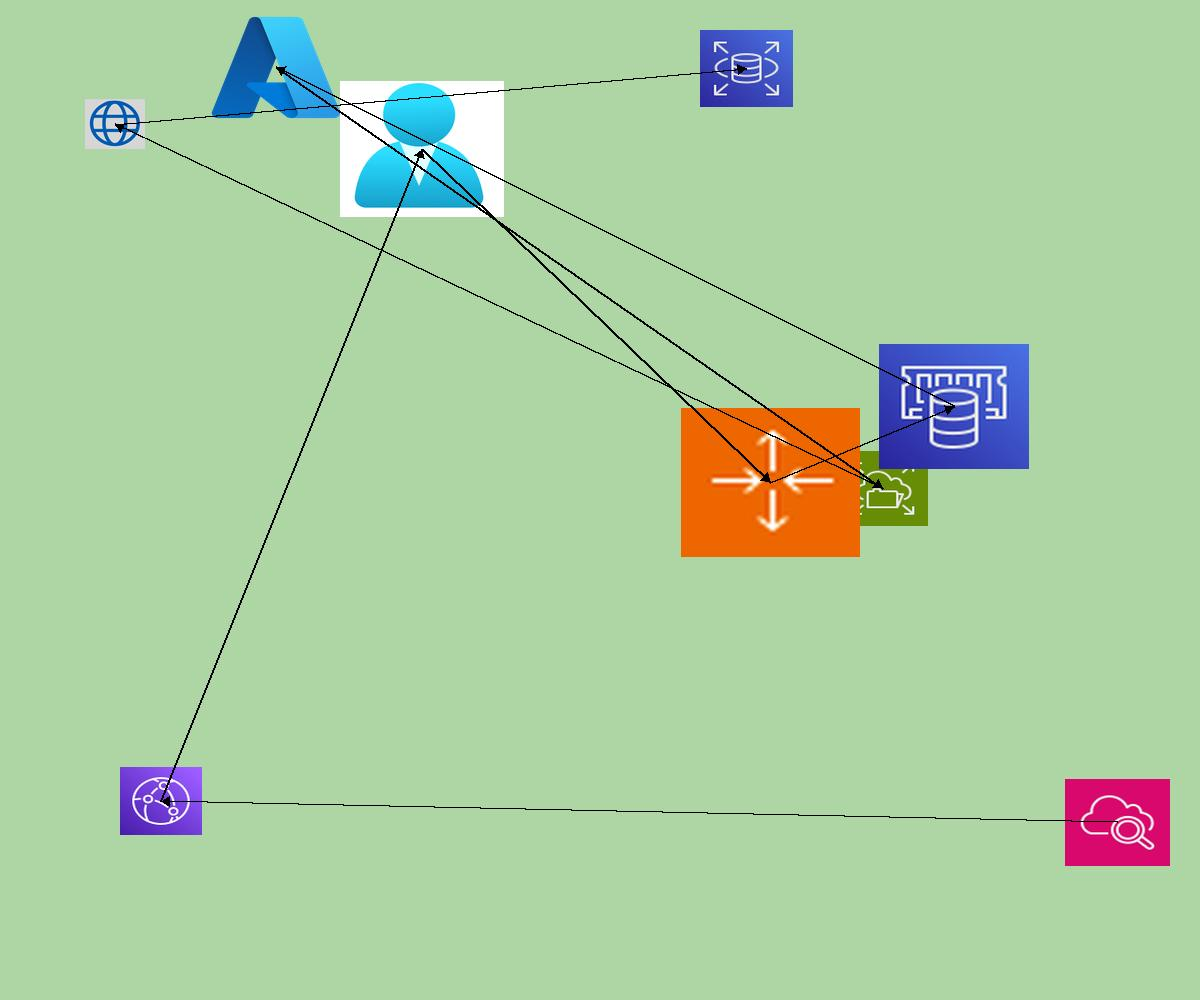AWS-CloudFront: (120, 767, 202, 835)
AWS-CloudWatch: (1065, 779, 1170, 866)
AWS-EFS: (837, 451, 928, 526)
AWS-ElastiCache: (879, 344, 1029, 469)
AWS-RDS: (700, 30, 793, 107)
AWS-Scaling-group: (681, 408, 860, 557)
Azure_http: (85, 99, 145, 149)
Azure_services: (206, 9, 346, 126)
Azure_users: (340, 81, 504, 217)
